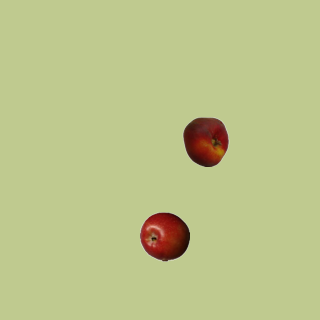Apple Braeburn: (139, 211, 189, 261)
Nectarine Flat: (180, 116, 230, 166)
